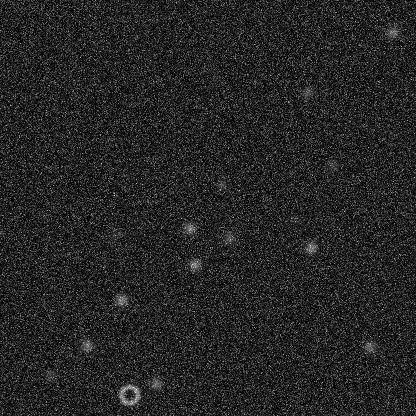Ring: (117, 382, 141, 406)
Spot: (303, 239, 319, 255), (186, 256, 202, 272), (221, 230, 237, 246), (384, 23, 400, 39), (106, 226, 122, 242), (78, 336, 94, 352), (113, 291, 129, 307), (285, 211, 301, 227), (299, 83, 315, 99), (323, 157, 339, 173), (147, 375, 163, 391), (213, 177, 229, 193), (181, 220, 197, 236), (42, 367, 58, 383), (361, 338, 377, 354)
